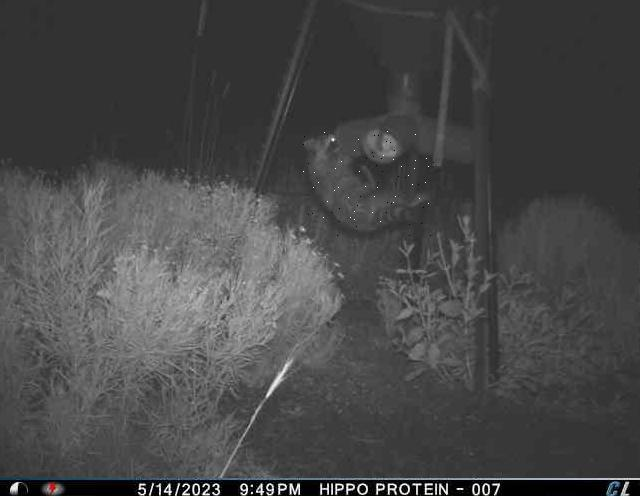Raccoon: (303, 130, 435, 236)
